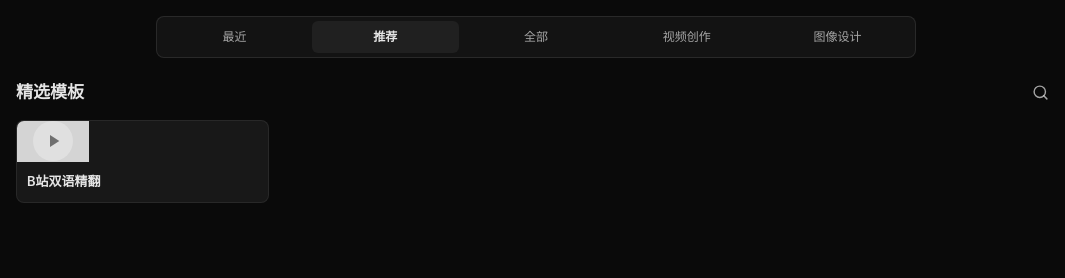
CreatorDashboard › shows only video facets with matching templates in their original order
The width and height of the screenshot is (1065, 278).
Click the tab "视频创作". click: click(687, 37)
box: [613,21,760,53]
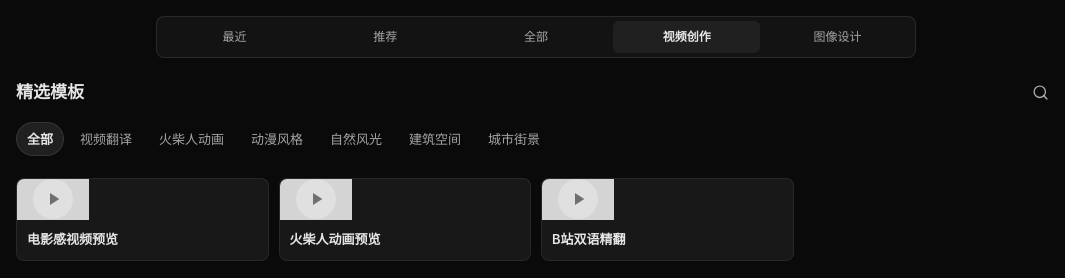
Click the button "视频翻译". click: click(106, 139)
box: [69,122,143,156]
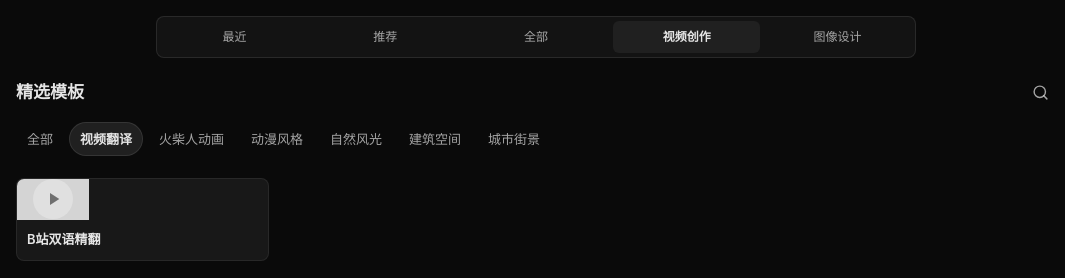
Expected: the button with aria-label "查看B站双语精翻模板详情" is shown, [16,178,268,260]
Result: the button "查看火柴人动画预览模板详情" is gone
Click the button "火柴人动画". click: click(192, 139)
box: [148,122,235,156]
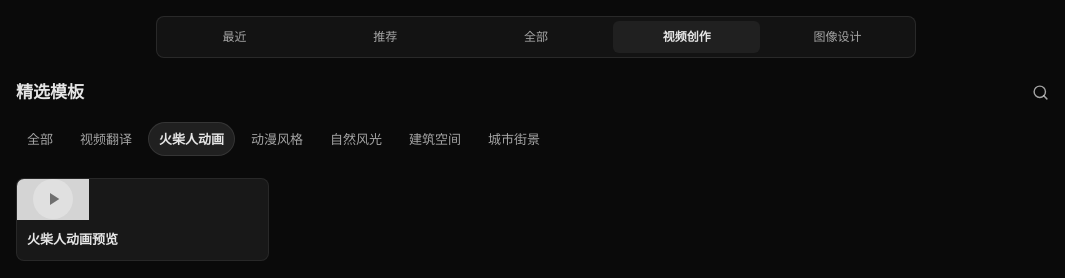
Result: the button with aria-label "查看火柴人动画预览模板详情" is shown at [16,178,268,260]
Result: the button "查看B站双语精翻模板详情" is gone
Click the button "城市街景". click: click(514, 139)
box: [477,122,551,156]
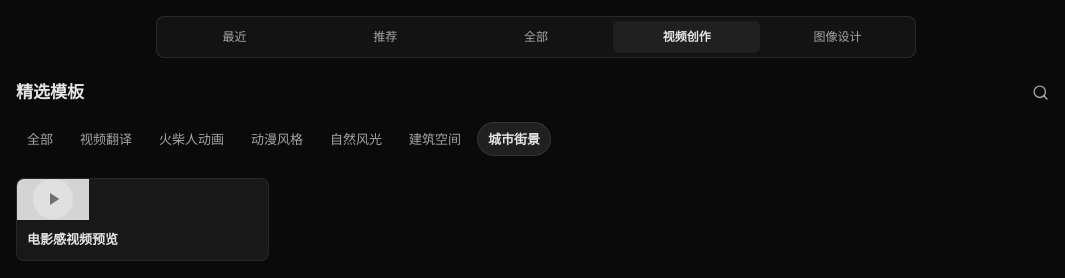
Result: the button with aria-label "查看电影感视频预览模板详情" is shown at [16,178,268,260]
